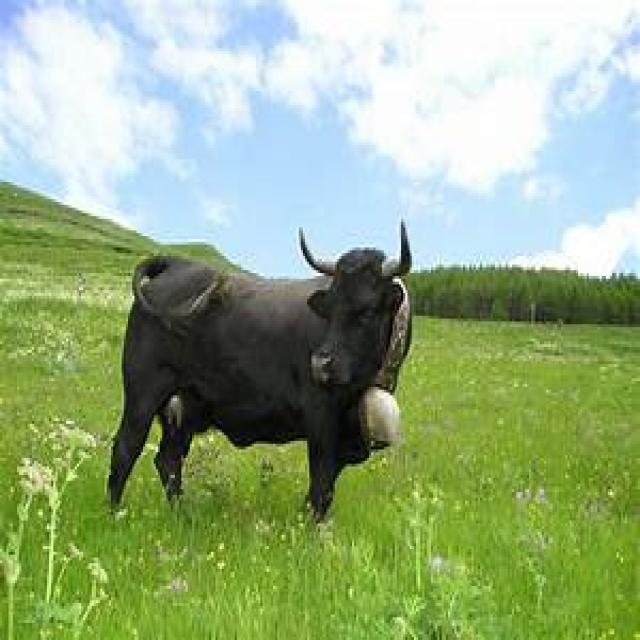cow: (110, 224, 411, 519)
